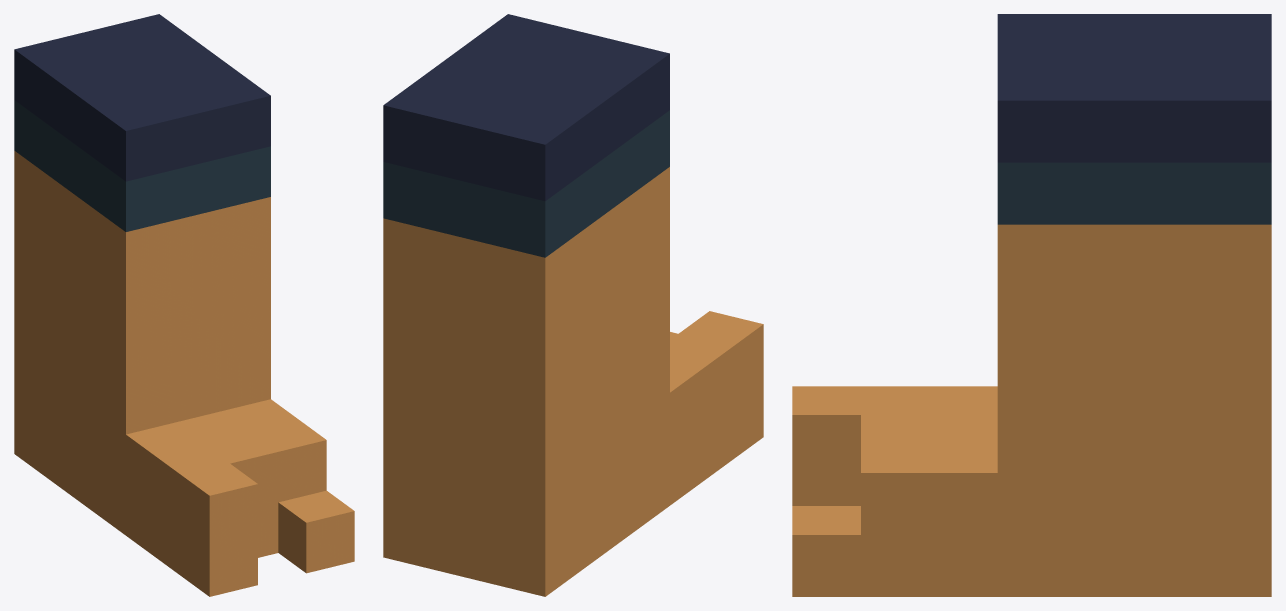
Rendered from Capitain-1.obj.
3 renders of one model, left to right at view 1: azimuth 30°, elevation 25°; view 2: azimuth 150°, elevation 25°; view 3: azimuth 270°, elevation 25°, orthographic. The views are drawn at different scales.
Bounding box in the file's own units: 0.3 × 0.8 × 0.7.
1 material, 1 textured.
